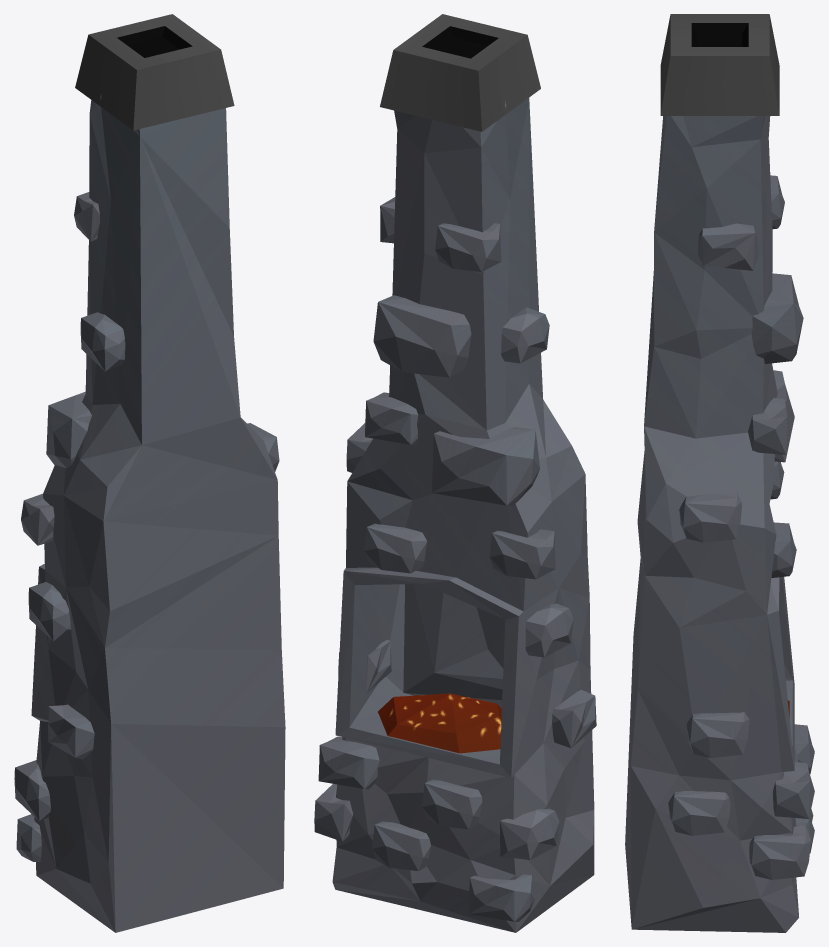
The model's file is Forge_3.fbx.
3 views of the same model, side by side, from view 1: azimuth 30°, elevation 25°; view 2: azimuth 150°, elevation 25°; view 3: azimuth 270°, elevation 25° (orthographic).
Visible parts, largest first — view 1: polySurface9726; view 2: polySurface9726; view 3: polySurface9726.
Part boxes in pixels (bbox=[...]): polySurface9726: bbox=[14, 14, 285, 932]; polySurface9726: bbox=[314, 14, 596, 932]; polySurface9726: bbox=[625, 14, 814, 932].
Size of the model in its own units: 299 by 1050 by 212.
